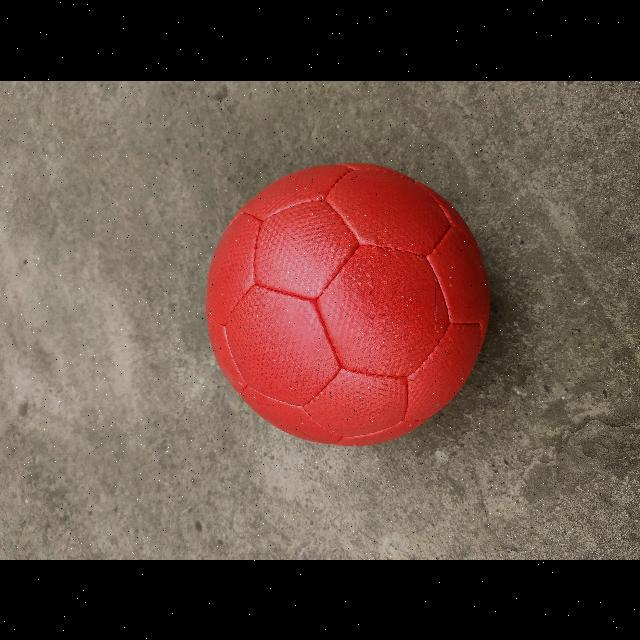R: (206, 162, 489, 446)
